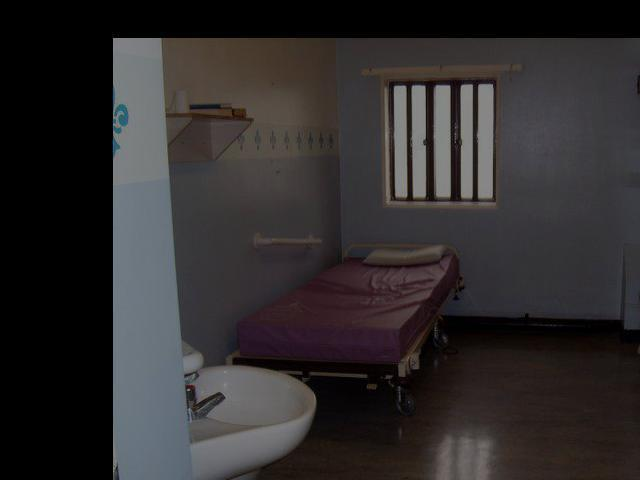Lavamanos: (182, 344, 323, 480)
